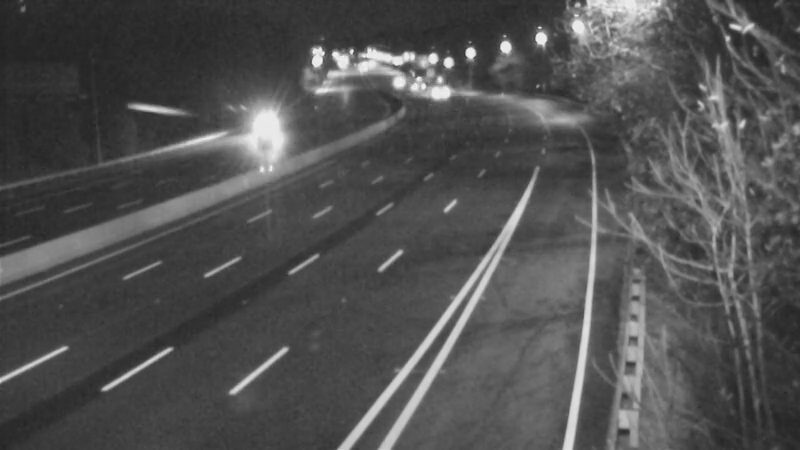vehicle: (372, 55, 422, 105), (387, 58, 437, 108), (413, 65, 463, 115), (237, 104, 287, 154)
